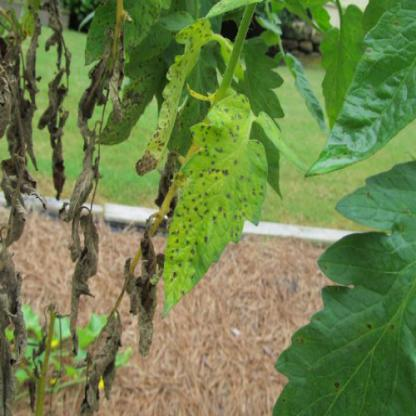Tomato Septoria leaf spot: (157, 78, 270, 317)
